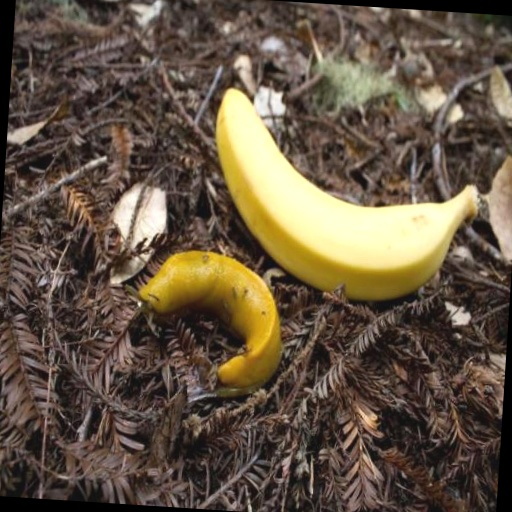fruit: (59, 134, 219, 445), (101, 47, 329, 235)
